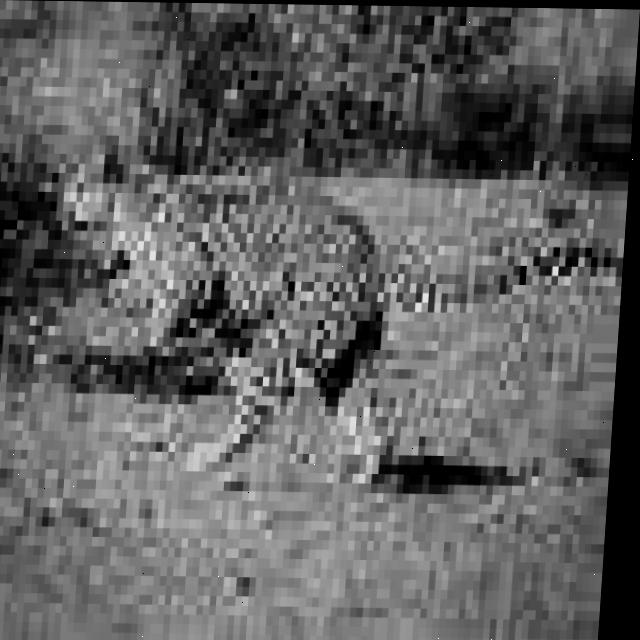Leopard: (2, 107, 400, 505)
